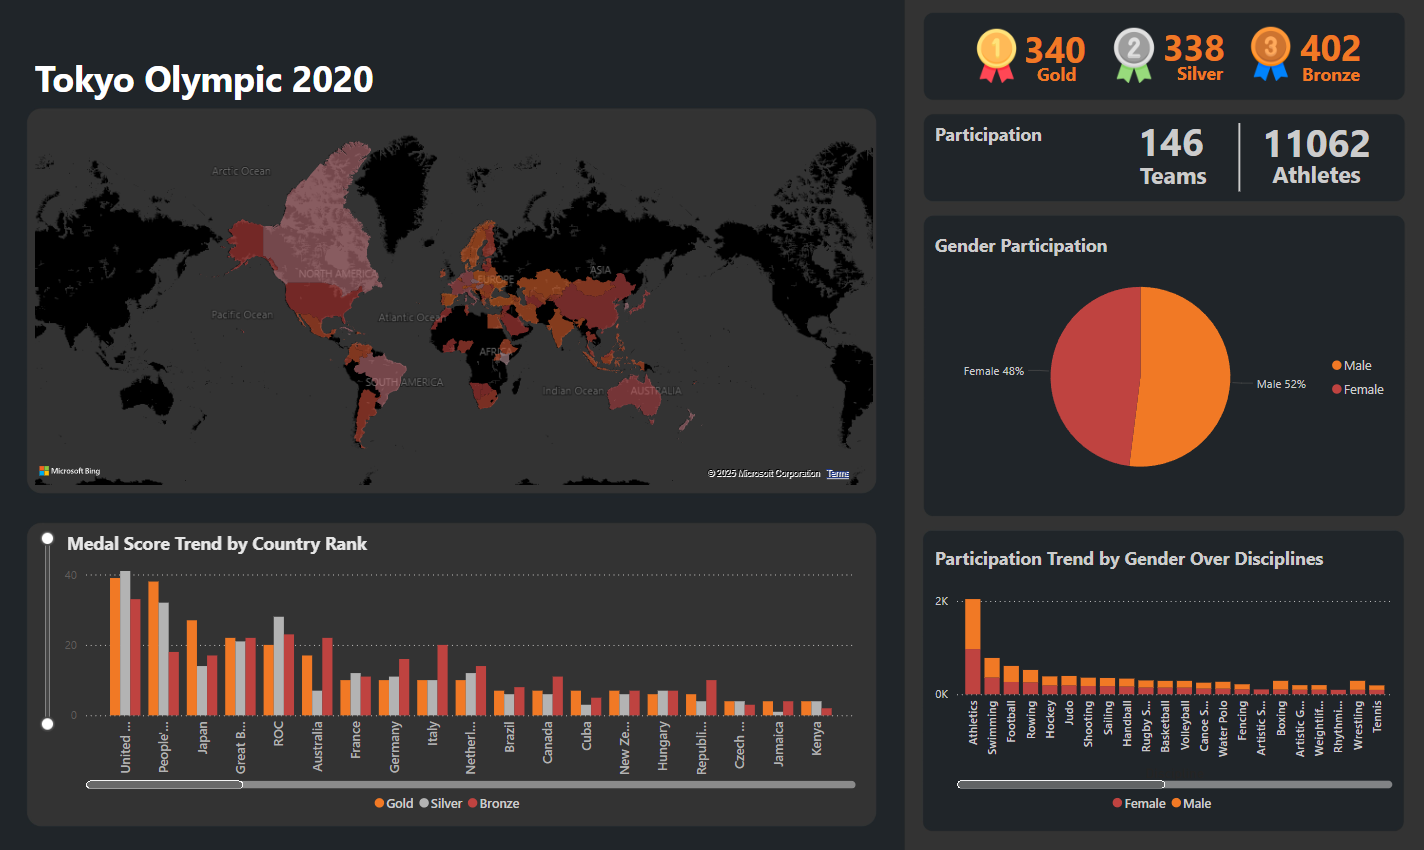

What the dashboard file says about the page in this screenshot:
{"tool":"powerbi","page":{"name":"Page 1","canvas":[1500,900],"ordinal":0},"visuals":[{"type":"textbox","box":[34,53.2,411.7,65.4],"z":0},{"type":"card","fields":{"Values":["Sum(medals.Gold)"]},"box":[1055.2,26.3,112.9,55.6],"z":1000,"group":"g1"},{"type":"clusteredColumnChart","fields":{"Category":["medals.Team/NOC"],"Y":["Sum(medals.Gold)","Sum(medals.Silver)","Sum(medals.Bronze)"]},"box":[41,555.6,866.1,310.5],"z":1000},{"type":"pieChart","fields":{"Y":["Sum(entries_gender.Male)","Sum(entries_gender.Female)"]},"box":[995.2,266.9,476.2,262.5],"z":2000},{"type":"image","box":[1012.7,27.9,74.4,67.1],"z":3000,"group":"g1"},{"type":"card","fields":{"Values":["Count(athletes.Name)"]},"box":[1313.9,108,144.8,86.3],"z":3000},{"type":"textbox","box":[1326.2,163.9,120.8,46.7],"z":4000},{"type":"card","fields":{"Values":["Sum(medals.Silver)"]},"box":[1201.3,24.4,112.9,54.8],"z":5000,"group":"g1"},{"type":"filledMap","fields":{"Category":["medals.Team/NOC"]},"box":[34,118.6,891.4,397.7],"z":5000},{"type":"card","fields":{"Values":["Sum(medals.Bronze)"]},"box":[1344.4,24.4,112.9,54.8],"z":6000,"group":"g1"},{"type":"group","id":"g1","title":"Group 1","box":[1012.7,24.4,447,76.9],"z":6000},{"type":"image","box":[1302.7,25.2,71.2,67.1],"z":7000,"group":"g1"},{"type":"columnChart","fields":{"Category":["entries_gender.Discipline"],"Y":["Sum(entries_gender.Female)","Sum(entries_gender.Male)"]},"box":[979.5,571.3,491.9,294.8],"z":7000},{"type":"card","fields":{"Values":["Count(teams.Name)"]},"box":[1161.1,122.5,144.8,56.7],"z":8000},{"type":"image","box":[1154.7,26.9,80.2,67.9],"z":9000,"group":"g1"},{"type":"textbox","box":[1175.3,165.2,120.2,46.1],"z":9000},{"type":"shape","box":[1283.1,131.5,44.9,71.9],"z":10000},{"type":"textbox","box":[1087.5,61.8,62.2,37.6],"z":11000,"group":"g1"},{"type":"textbox","box":[979.8,570.8,441.6,50.6],"z":11000},{"type":"textbox","box":[979.8,241.6,441.6,50.6],"z":12000},{"type":"textbox","box":[1234.8,61.2,90.8,40.1],"z":13000,"group":"g1"},{"type":"textbox","box":[67.4,555.1,441.6,50.6],"z":13000},{"type":"textbox","box":[1365.7,62,94.1,37.6],"z":14000,"group":"g1"},{"type":"textbox","box":[979.8,124.7,131.5,50.6],"z":14000}]}

Visuals, with their boxes in screenshot pixels (x1, y1, x2, y2), scaled from the page's 1500x900 canvas onto the 1424x850 screenshot:
textbox: <box>32,50,423,112</box>
card - Sum(medals.Gold): <box>1002,25,1109,77</box>
clusteredColumnChart - medals.Team/NOC x Sum(medals.Gold): <box>39,525,861,818</box>
pieChart - Sum(entries_gender.Male) x Sum(entries_gender.Female): <box>945,252,1397,500</box>
image: <box>961,26,1032,90</box>
card - Count(athletes.Name): <box>1247,102,1385,184</box>
textbox: <box>1259,155,1374,199</box>
card - Sum(medals.Silver): <box>1140,23,1248,75</box>
filledMap - medals.Team/NOC: <box>32,112,879,488</box>
card - Sum(medals.Bronze): <box>1276,23,1383,75</box>
"Group 1" group: <box>961,23,1386,96</box>
image: <box>1237,24,1304,87</box>
columnChart - entries_gender.Discipline x Sum(entries_gender.Female): <box>930,540,1397,818</box>
card - Count(teams.Name): <box>1102,116,1240,169</box>
image: <box>1096,25,1172,90</box>
textbox: <box>1116,156,1230,200</box>
shape: <box>1218,124,1261,192</box>
textbox: <box>1032,58,1091,94</box>
textbox: <box>930,539,1349,587</box>
textbox: <box>930,228,1349,276</box>
textbox: <box>1172,58,1258,96</box>
textbox: <box>64,524,483,572</box>
textbox: <box>1297,59,1386,94</box>
textbox: <box>930,118,1055,166</box>
